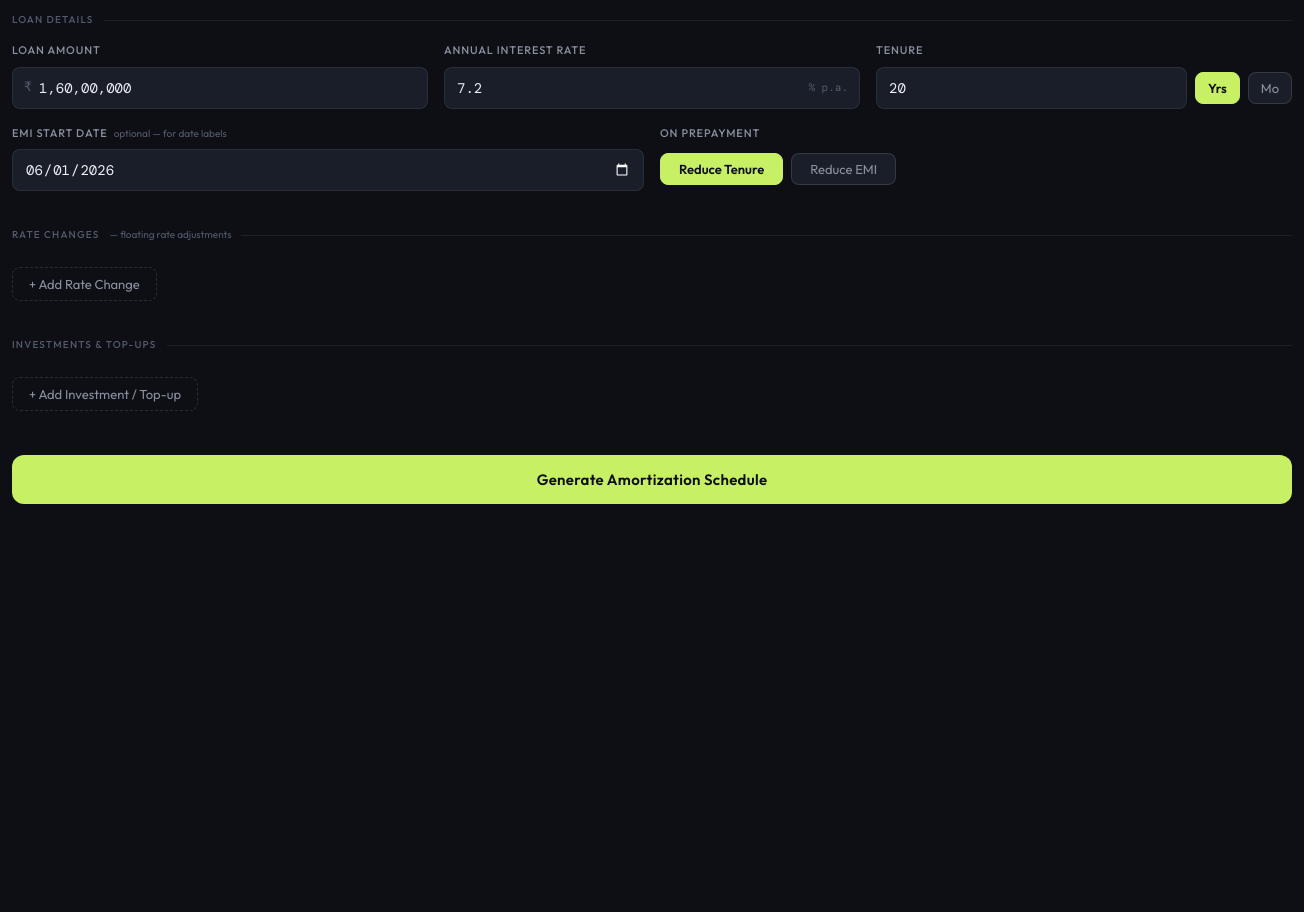
Test: AmortizationPage — rate change rows › removes a rate change row
Click the button "+ Add Rate Change".
click(84, 284)  # box [12,267,157,301]
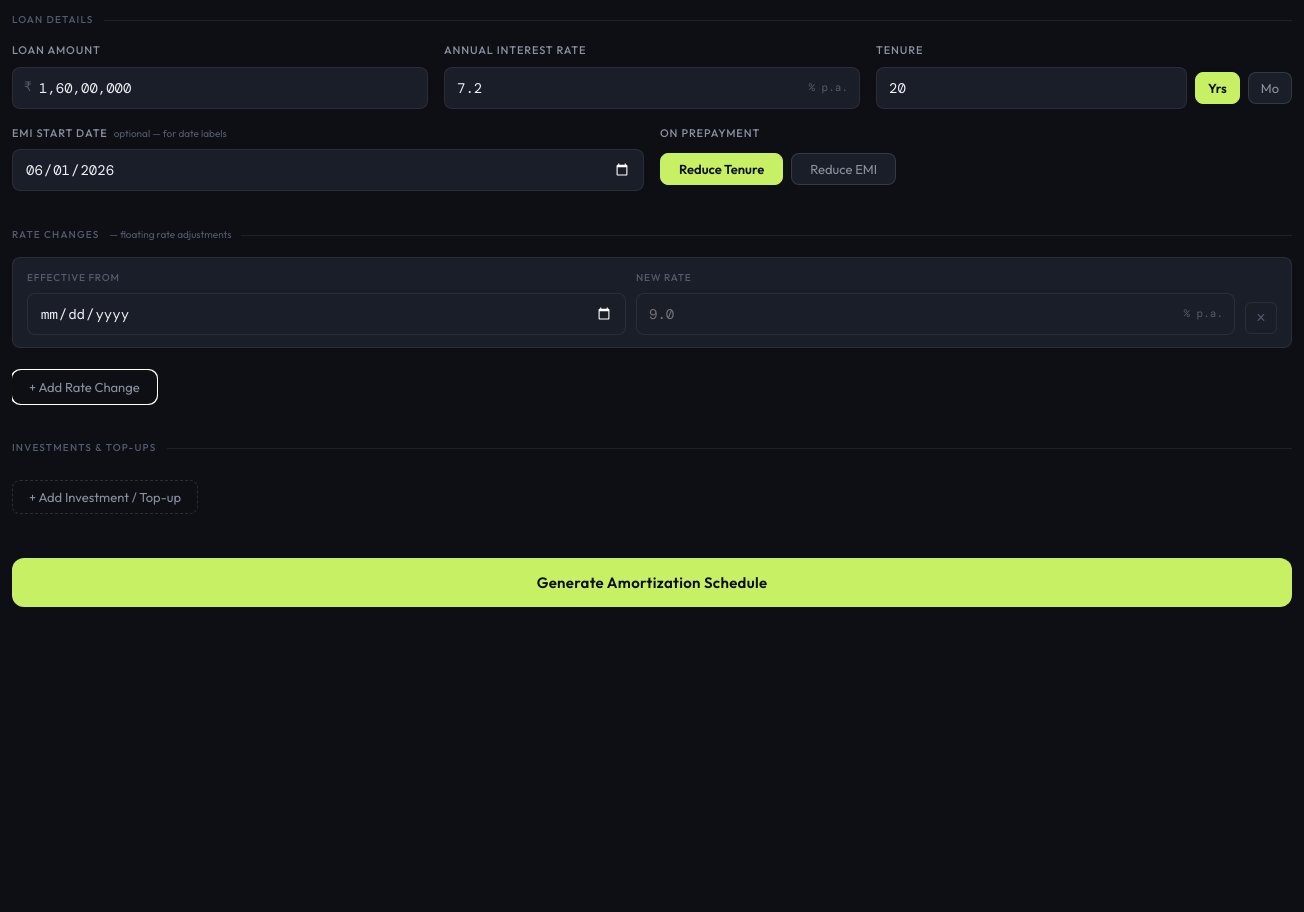
Click the button "+ Add Rate Change".
click(84, 387)  # box [12,370,157,404]
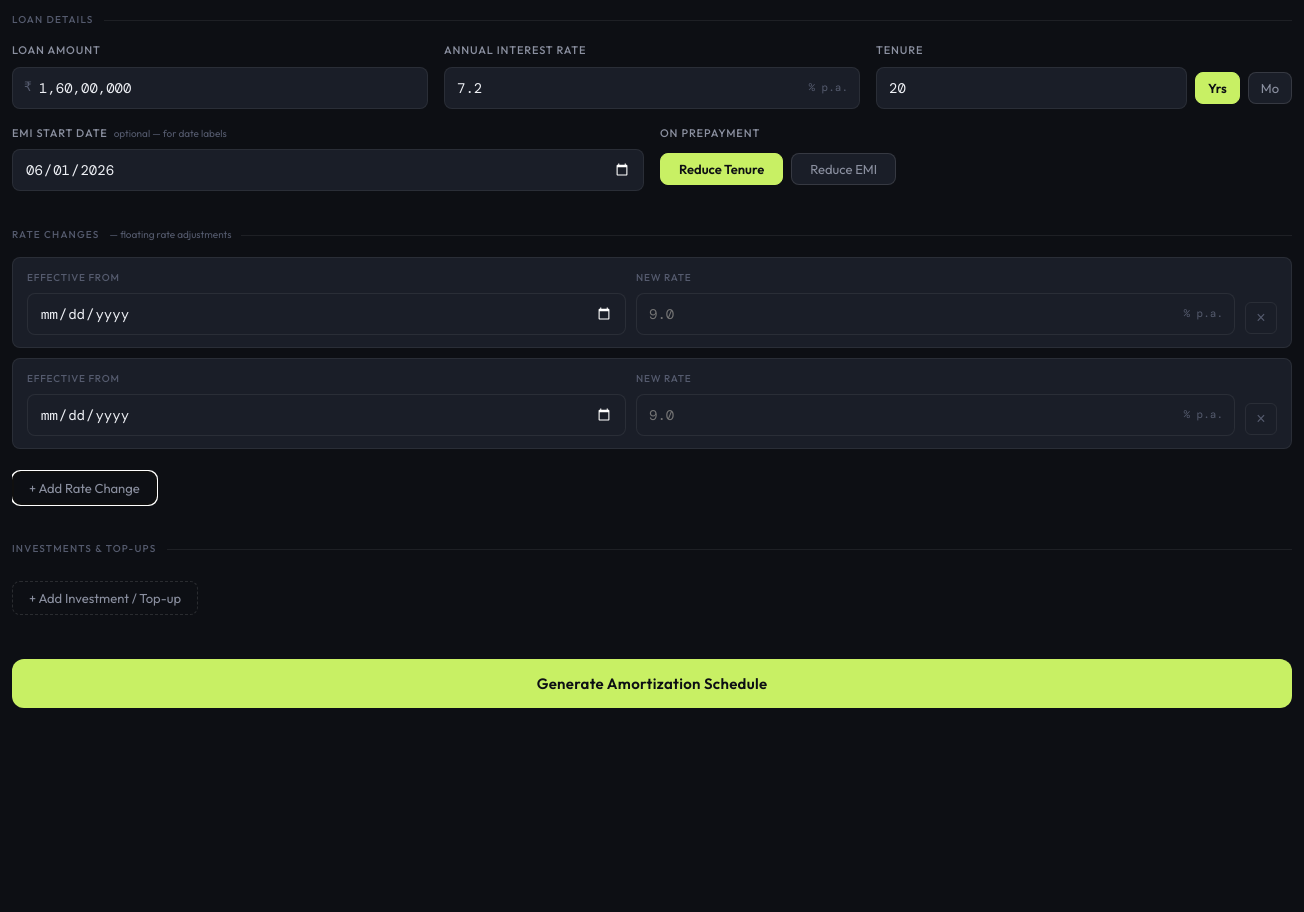
expect the number of buttons titled "Remove" is 2: met
Click the 1st button titled "Remove".
click(1261, 318)  # box [1245,302,1277,334]
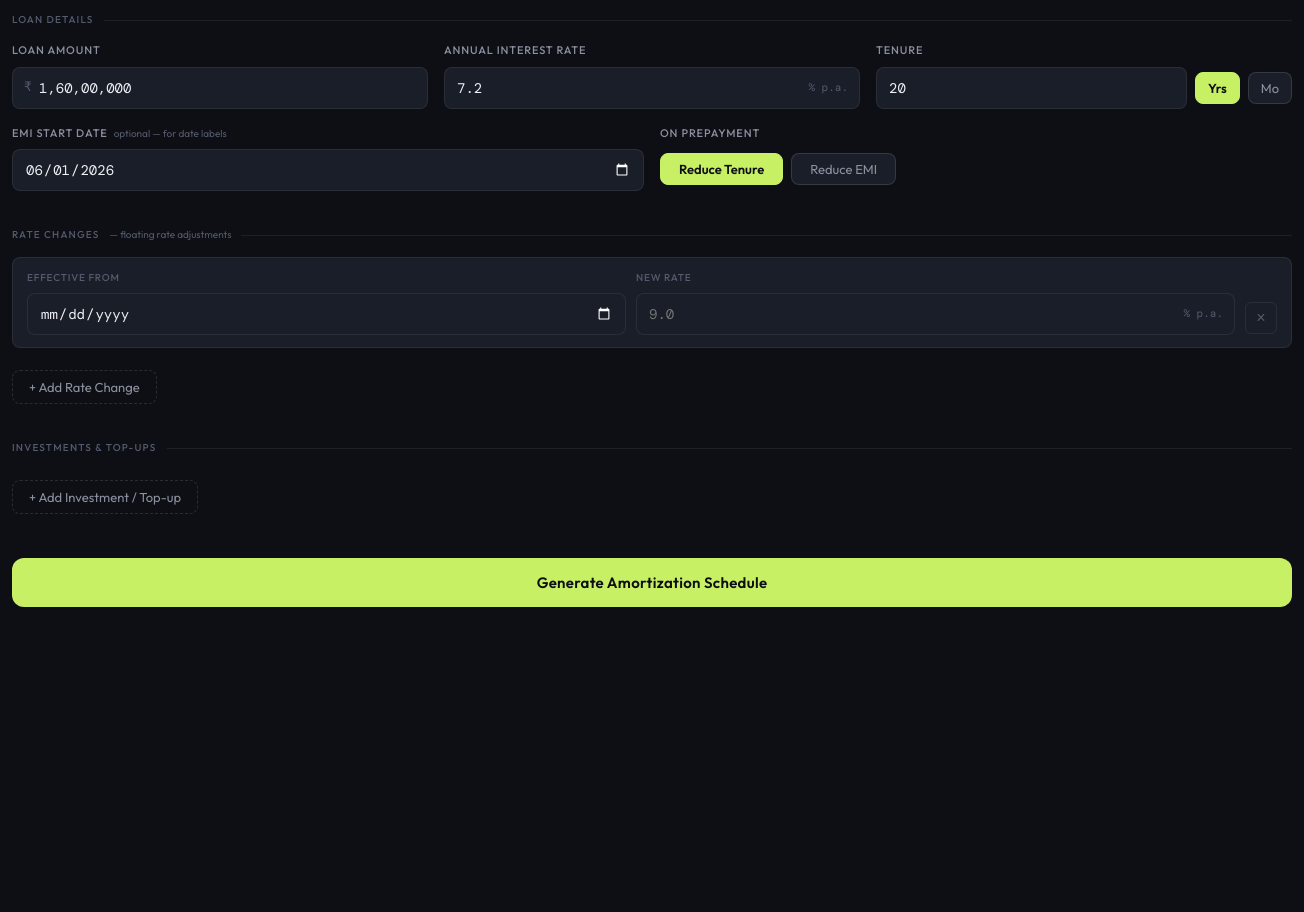
expect the number of buttons titled "Remove" is 1: met, box [1245,302,1277,334]
